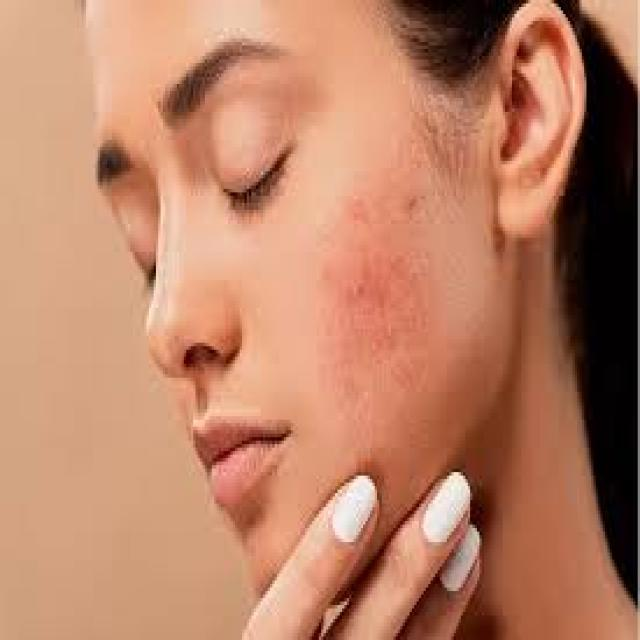Dry-Skin: (327, 248, 360, 312)
